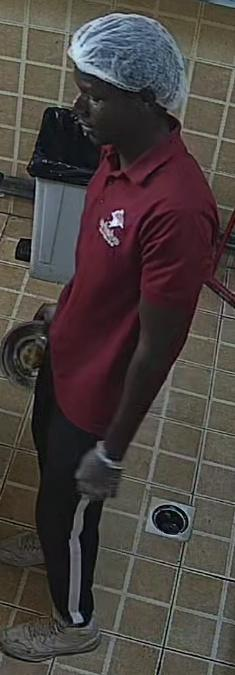no_apron: (46, 40, 177, 437)
